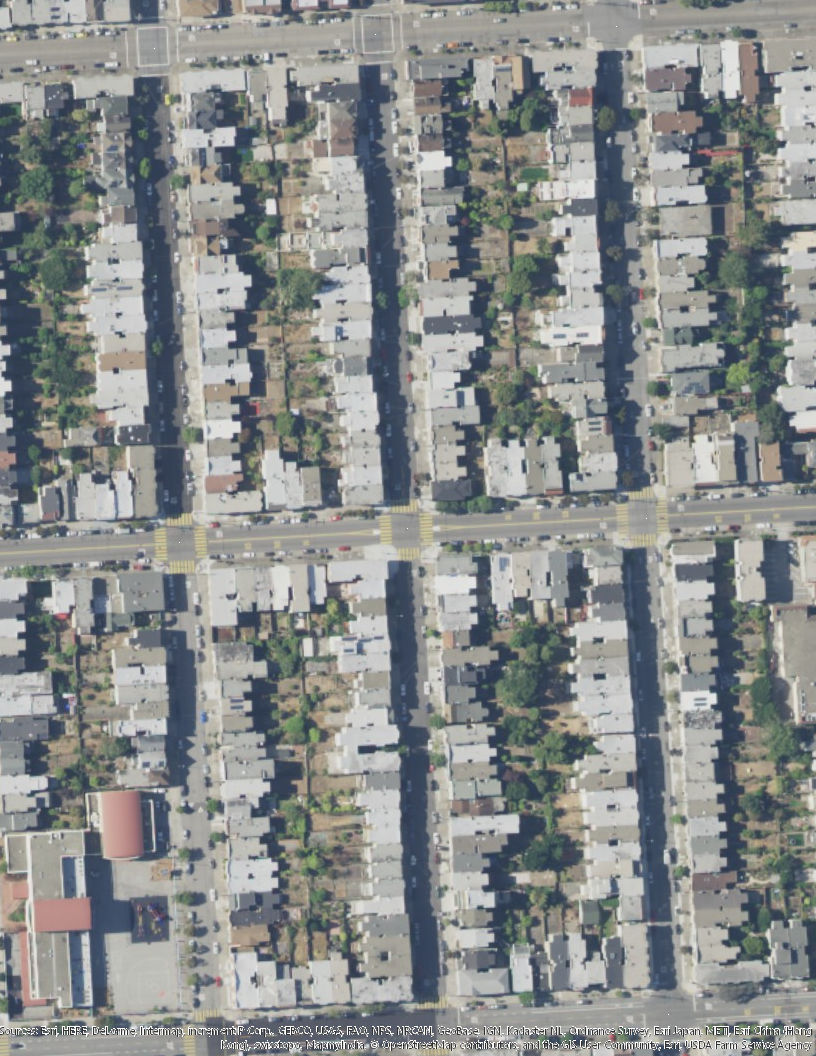zebracross: (154, 527, 168, 563), (193, 526, 208, 558), (392, 498, 420, 514), (417, 996, 449, 1010), (656, 497, 669, 531), (420, 514, 434, 545), (379, 517, 393, 547), (615, 504, 628, 536), (166, 512, 193, 527), (192, 1010, 224, 1021), (169, 561, 196, 574), (628, 487, 655, 500), (182, 1036, 197, 1056), (632, 533, 655, 546), (399, 548, 421, 560), (1, 1037, 10, 1055)
